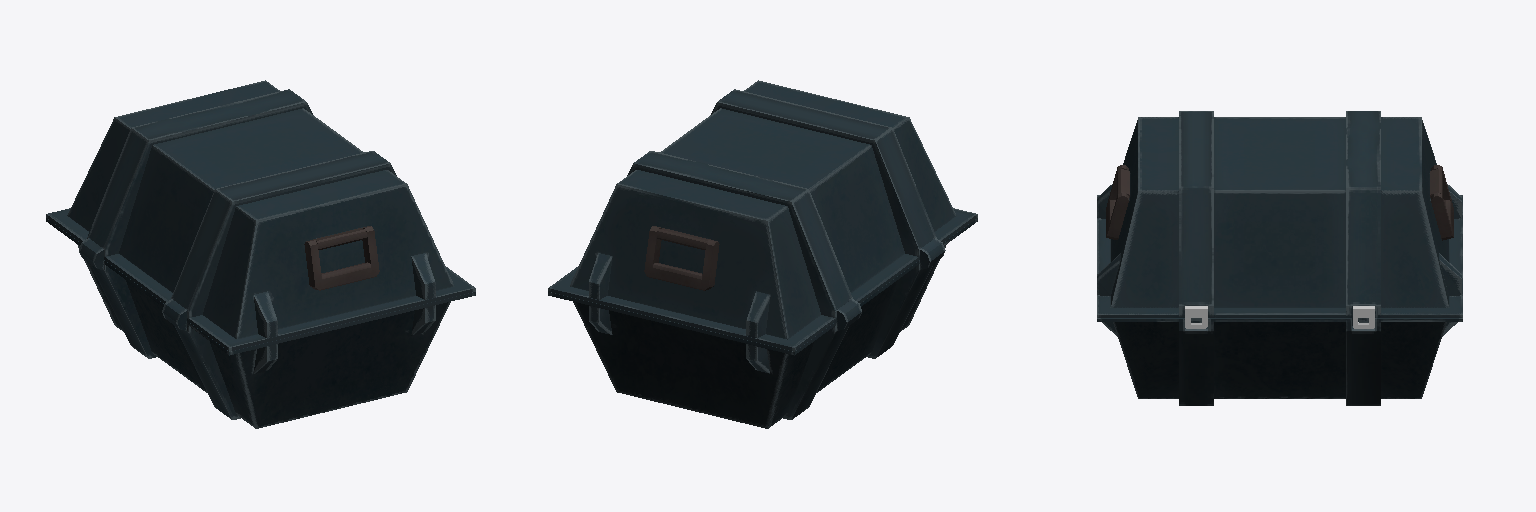
3 views of the same model, side by side, from view 1: azimuth 30°, elevation 25°; view 2: azimuth 150°, elevation 25°; view 3: azimuth 270°, elevation 25° (orthographic).
Visible parts, largest first — view 1: a_low, b_low, c_low; view 2: a_low, b_low, c_low; view 3: a_low, b_low, c_low, e_low.
Part boxes in pixels (bbox=[...]): a_low: bbox=[46, 80, 475, 351]; b_low: bbox=[46, 218, 475, 428]; c_low: bbox=[304, 226, 379, 290]; a_low: bbox=[548, 80, 977, 351]; b_low: bbox=[548, 218, 977, 428]; c_low: bbox=[644, 226, 719, 290]; a_low: bbox=[1097, 111, 1462, 317]; b_low: bbox=[1097, 316, 1462, 405]; c_low: bbox=[1106, 165, 1453, 240]; e_low: bbox=[1185, 306, 1374, 328].
Size of the model in its own units: 103 by 83.84 by 127.
2 materials, 1 textured.